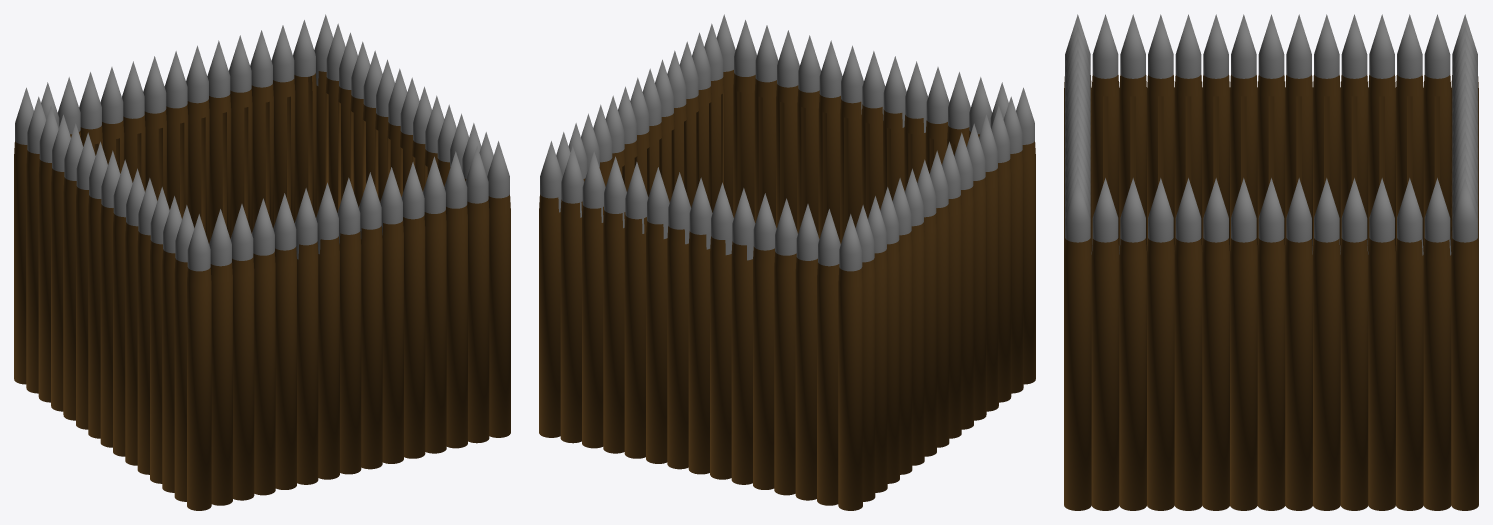
The model's file is Spikes.fbx.
3 views of the same model, side by side, from view 1: azimuth 30°, elevation 25°; view 2: azimuth 150°, elevation 25°; view 3: azimuth 270°, elevation 25° (orthographic). The views are drawn at different scales.
Visible parts, largest first — view 1: Cone; view 2: Cone; view 3: Cone.
Boxes of the visible parts, box(x1,y1,x2,y2) form: Cone: box(14, 14, 510, 510); Cone: box(539, 14, 1035, 510); Cone: box(1064, 14, 1478, 510).
Size of the model in its own units: 2098 by 1827 by 2098.
